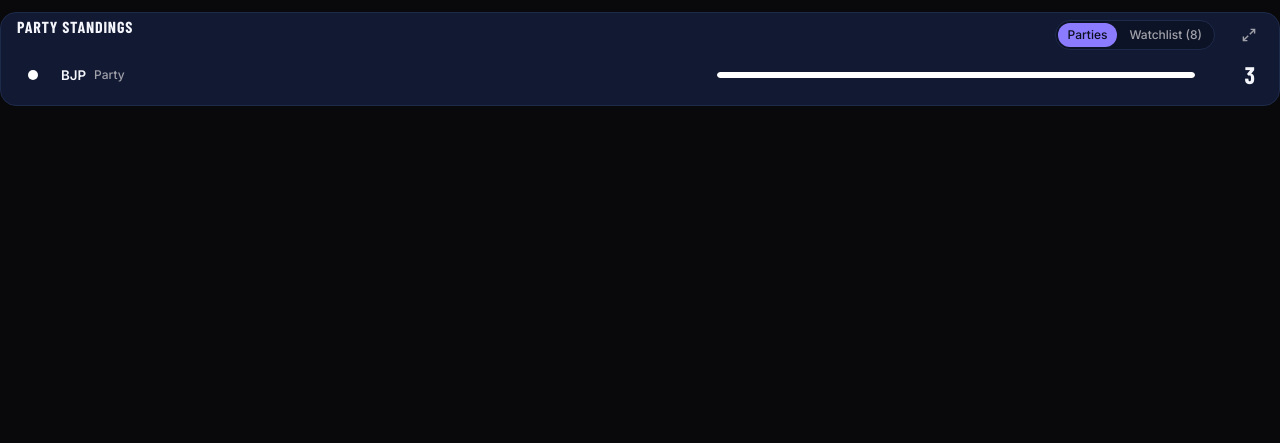
Test case: StandingsTile watchlist expand › every watched seat is listed in the scroll area, with no "+N more" link; the add picker sits outside it
Click the radio button labelled "Watchlist (8)".
click(1166, 35)  # box [1120,23,1212,47]
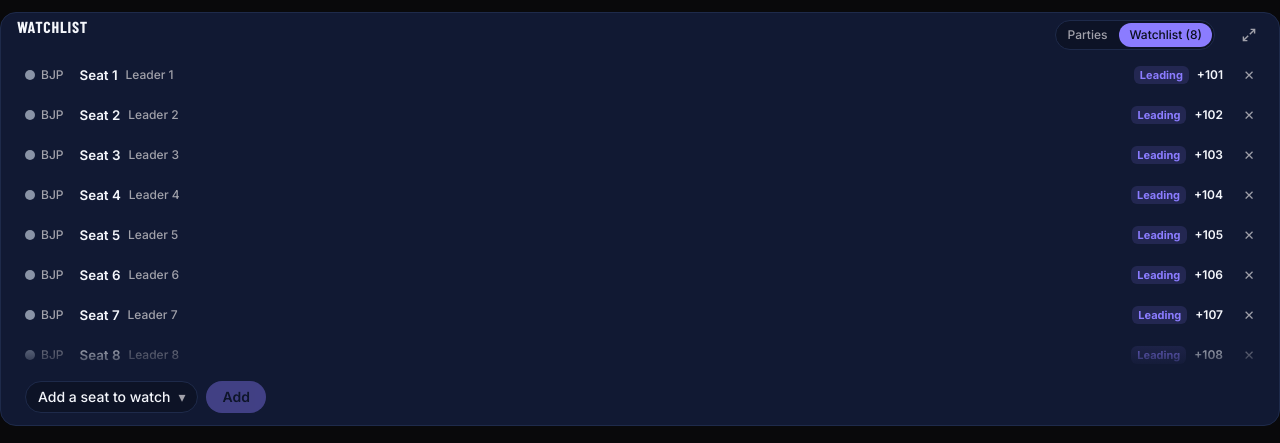
Expected: the number of buttons "Seat 1 Leader 1 Leading +101" is 8
